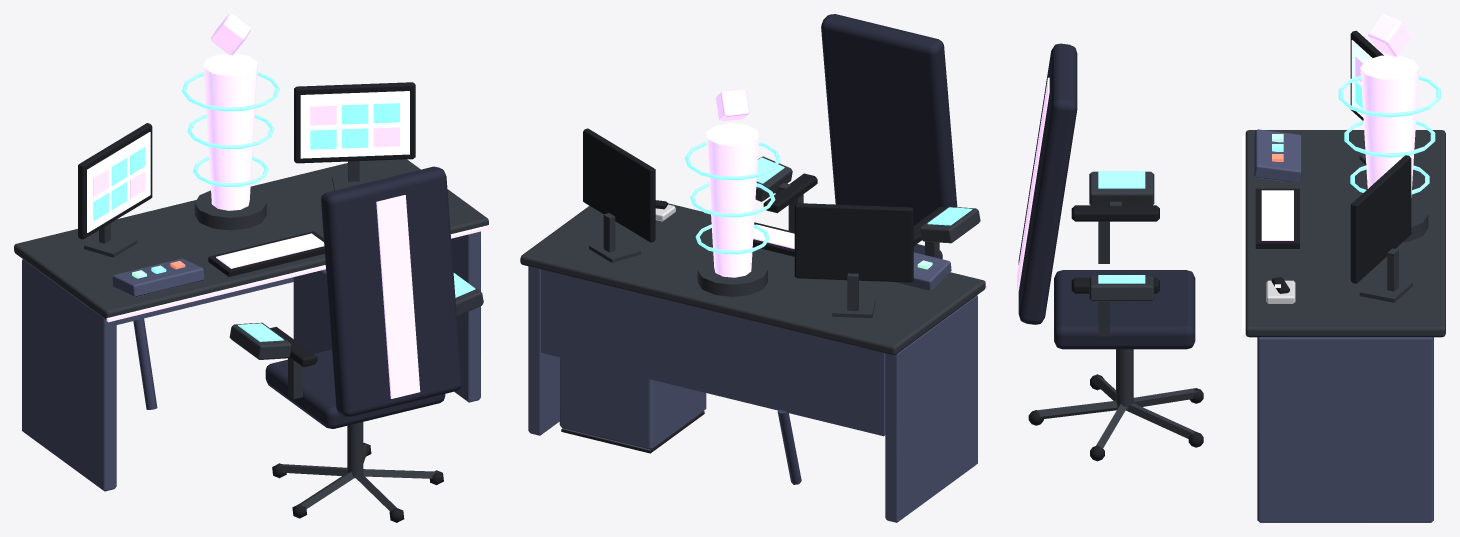
Rendered from station_processing_3.glb.
The picture shows the model from 3 angles, left to right: view 1: azimuth 30°, elevation 25°; view 2: azimuth 150°, elevation 25°; view 3: azimuth 270°, elevation 25°; orthographic projection. The views are drawn at different scales.
Visible parts, largest first — view 1: station_processing_3; view 2: station_processing_3; view 3: station_processing_3.
Part boxes in pixels (x1=…): station_processing_3: x1=14, y1=14, x2=491, y2=522; station_processing_3: x1=520, y1=14, x2=988, y2=522; station_processing_3: x1=1017, y1=14, x2=1445, y2=522.
Size of the model in its own units: 1.6 by 1.53 by 1.46.
